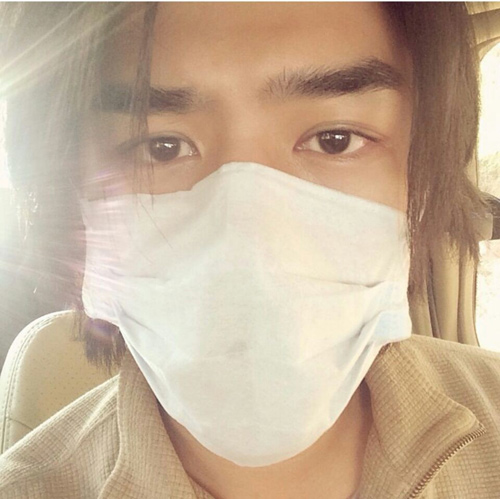face_mask: (86, 28, 409, 468)
